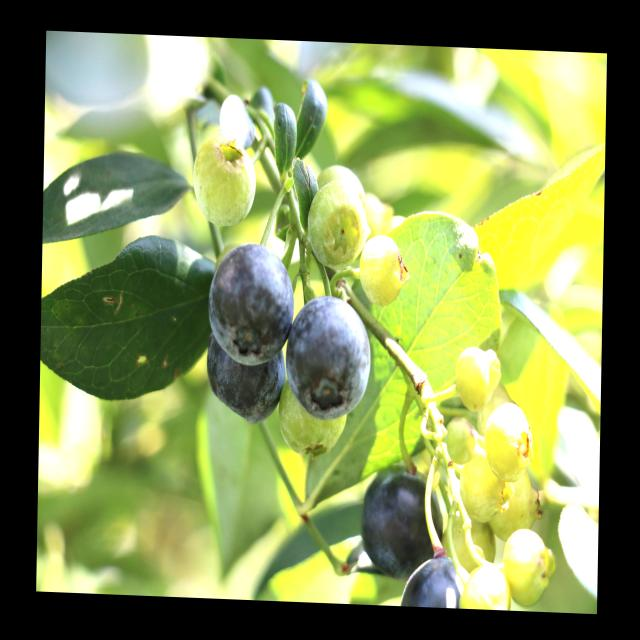blueberry: (284, 290, 372, 423), (208, 232, 295, 363), (355, 468, 445, 584), (204, 348, 288, 425), (402, 559, 472, 609)
blueberry-unripe: (190, 133, 259, 230), (278, 380, 350, 461), (307, 178, 370, 270), (482, 397, 536, 485), (501, 523, 555, 610), (486, 465, 539, 539), (361, 232, 406, 306), (450, 343, 496, 415), (458, 451, 506, 518), (458, 558, 512, 610), (443, 408, 476, 463)
